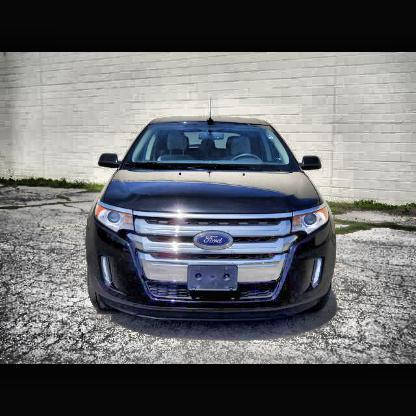Ford Edge SUV 2012: (85, 101, 338, 316)
